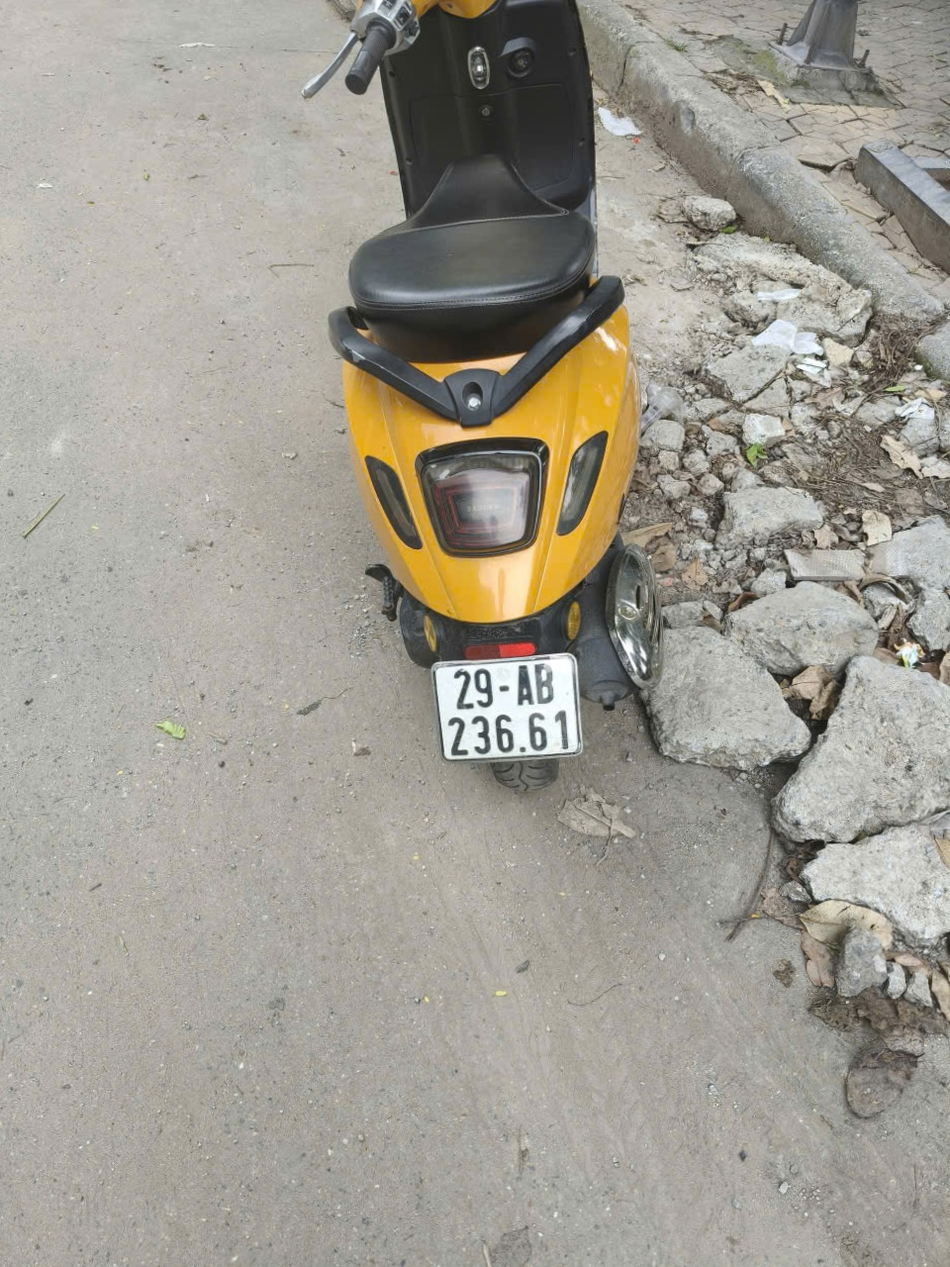plate: (415, 425, 540, 451)
